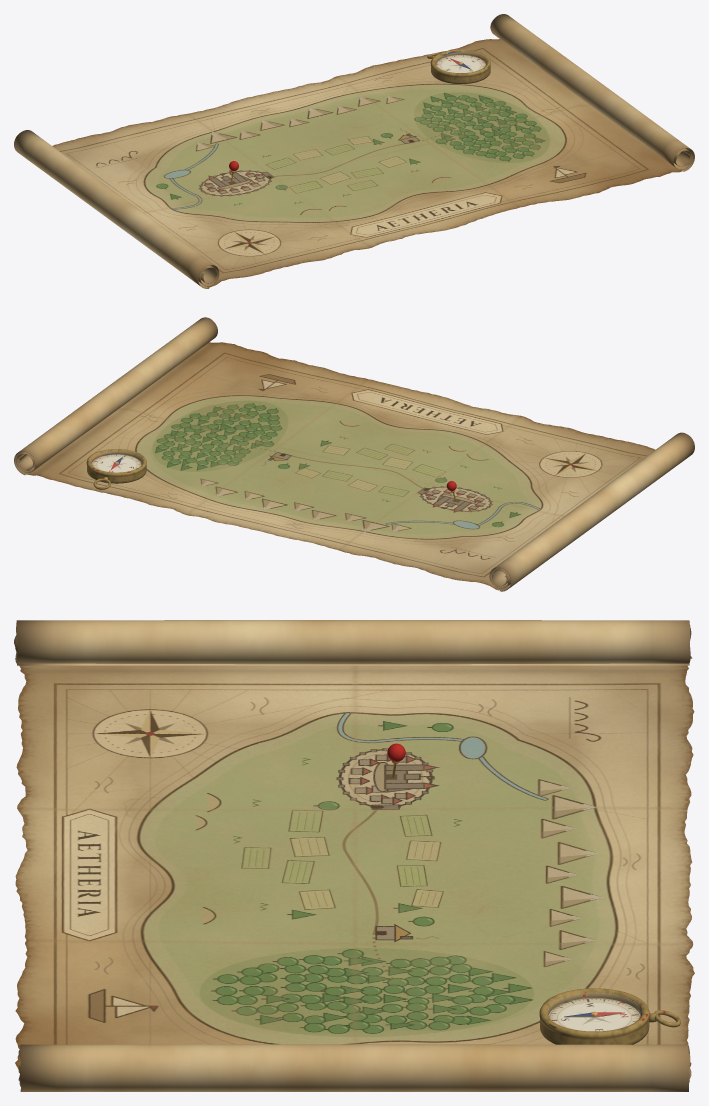
File: adventurers_map.glb
The picture shows the model from 3 angles, top to bottom: view 1: azimuth 30°, elevation 25°; view 2: azimuth 150°, elevation 25°; view 3: azimuth 270°, elevation 25°; orthographic projection. The views are drawn at different scales.
Parts seen in each view (by area): view 1: Map_Sheet, Map_Roll_Left, Map_Roll_Right, Compass_Case, Compass_Dial; view 2: Map_Sheet, Map_Roll_Left, Map_Roll_Right, Compass_Case, Compass_Dial; view 3: Map_Sheet, Map_Roll_Right, Map_Roll_Left, Compass_Case, Compass_Dial.
Part boxes in pixels (box(x1,y1,x2,y2)): Map_Sheet: box(52, 39, 682, 287); Map_Roll_Left: box(14, 130, 219, 288); Map_Roll_Right: box(490, 14, 694, 171); Compass_Case: box(430, 49, 490, 83); Compass_Dial: box(435, 55, 485, 72); Map_Sheet: box(26, 342, 655, 590); Map_Roll_Left: box(489, 432, 694, 591); Map_Roll_Right: box(14, 317, 217, 474); Compass_Case: box(86, 449, 146, 483); Compass_Dial: box(91, 454, 141, 472); Map_Sheet: box(15, 665, 694, 1073); Map_Roll_Right: box(18, 1044, 691, 1091); Map_Roll_Left: box(14, 620, 692, 665); Compass_Case: box(539, 988, 649, 1044); Compass_Dial: box(548, 998, 640, 1031).
Size of the model in its own units: 0.6641 by 0.0342 by 0.4304.
Materials: 2 (1 with a texture image).
